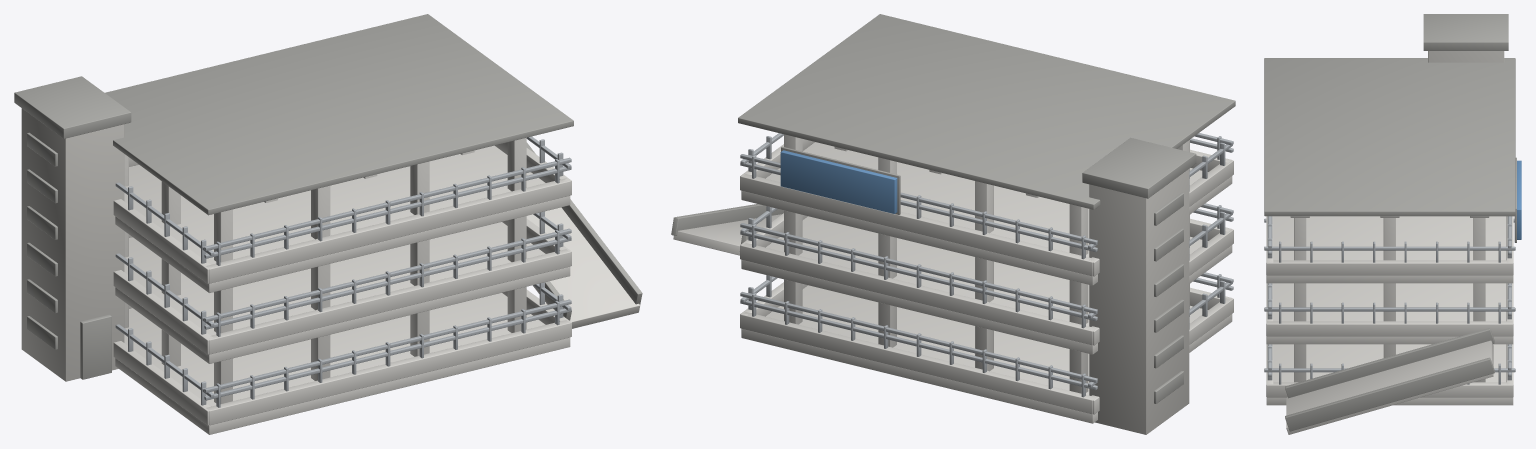
The model's file is th7_parkhaus.glb.
3 renders of one model, left to right at view 1: azimuth 30°, elevation 25°; view 2: azimuth 150°, elevation 25°; view 3: azimuth 270°, elevation 25°, orthographic. The views are drawn at different scales.
Visible parts, largest first — view 1: Cube.207, Cube.198, Cube.098, Cube, Cube.049, Cube.001, Cube.099, Cube.050, Cube.195, Cube.199, Cube.183, Cube.171 (+17 smaller); view 2: Cube.207, Cube.198, Cube.049, Cube, Cube.098, Cube.015, Cube.064, Cube.113, Cube.209, Cube.199, Cube.155, Cube.167 (+14 smaller); view 3: Cube.207, Cube.098, Cube.049, Cube, Cube.195, Cube.137, Cube.088, Cube.197, Cube.199, Cube.196, Cube.183, Cube.039 (+7 smaller).
Boxes of the visible parts, bbox=[...] form: Cube.207: bbox=[105, 14, 573, 215]; Cube.198: bbox=[21, 108, 124, 381]; Cube.098: bbox=[115, 145, 570, 292]; Cube: bbox=[115, 293, 570, 434]; Cube.049: bbox=[115, 222, 570, 363]; Cube.001: bbox=[206, 320, 570, 425]; Cube.099: bbox=[206, 178, 570, 283]; Cube.050: bbox=[209, 249, 570, 354]; Cube.195: bbox=[526, 207, 640, 328]; Cube.199: bbox=[14, 76, 131, 138]; Cube.183: bbox=[507, 137, 526, 332]; Cube.171: bbox=[410, 161, 429, 356]; Cube.207: bbox=[738, 14, 1235, 209]; Cube.198: bbox=[1089, 169, 1189, 434]; Cube.049: bbox=[741, 216, 1232, 354]; Cube: bbox=[741, 285, 1232, 423]; Cube.098: bbox=[741, 142, 1232, 285]; Cube.015: bbox=[741, 312, 1095, 414]; Cube.064: bbox=[741, 243, 1095, 345]; Cube.113: bbox=[741, 174, 1094, 276]; Cube.209: bbox=[780, 150, 897, 213]; Cube.199: bbox=[1082, 137, 1196, 198]; Cube.155: bbox=[1069, 204, 1088, 393]; Cube.167: bbox=[975, 181, 993, 371]; Cube.207: bbox=[1264, 58, 1515, 216]; Cube.098: bbox=[1266, 216, 1513, 283]; Cube.049: bbox=[1266, 283, 1513, 344]; Cube: bbox=[1266, 344, 1513, 405]; Cube.195: bbox=[1286, 340, 1493, 434]; Cube.137: bbox=[1266, 260, 1513, 275]; Cube.088: bbox=[1266, 321, 1513, 336]; Cube.197: bbox=[1285, 357, 1494, 431]; Cube.199: bbox=[1423, 14, 1508, 50]; Cube.196: bbox=[1285, 328, 1494, 398]; Cube.183: bbox=[1294, 218, 1306, 382]; Cube.039: bbox=[1266, 382, 1513, 397].
Size of the model in its own units: 22.07 by 10.84 by 11.47.
